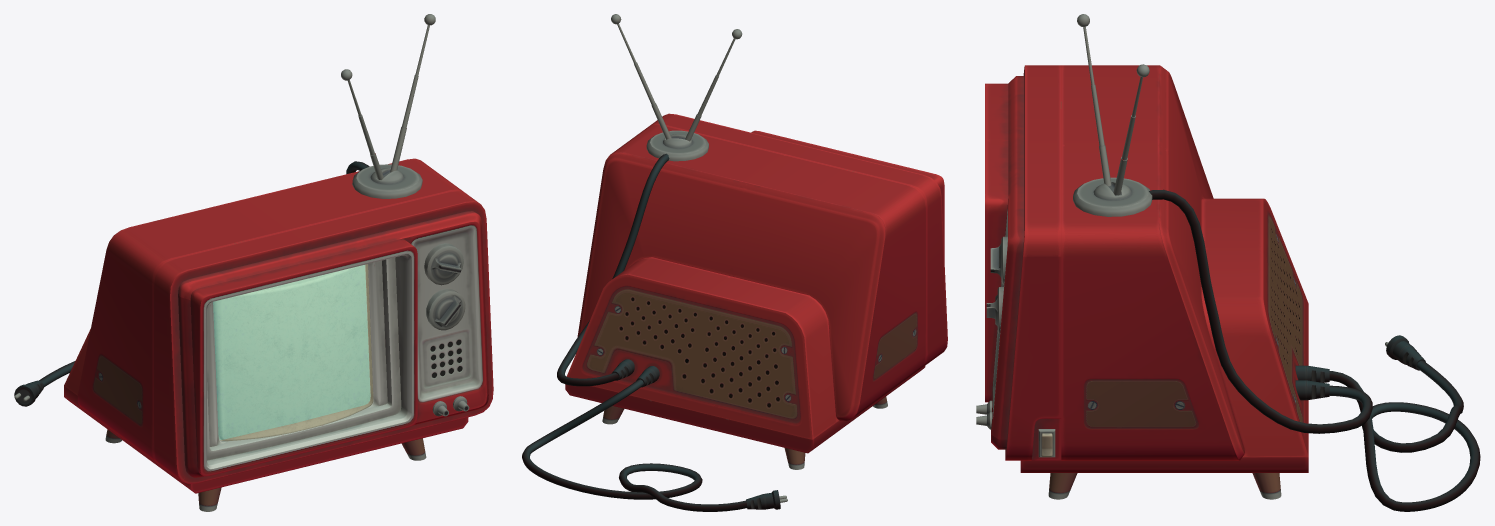
Rendered from cartoon_tv.glb.
The picture shows the model from 3 angles, left to right: view 1: azimuth 30°, elevation 25°; view 2: azimuth 150°, elevation 25°; view 3: azimuth 270°, elevation 25°; orthographic projection. The views are drawn at different scales.
Visible parts, largest first — view 1: front_body_low001_main_0, middel_body_low001_main_0, screen_low001_glass_0, screen_emision_low002, rear_body_low001_main_0, antena_base_low001_main_0, top_regulator_low002, top_regulator_low001_main_0, antena_middel_low002_main_0, antena_middel_low003_main_0; view 2: middel_body_low001_main_0, rear_body_low001_main_0, front_body_low001_main_0, wire_right_low001_main_0, wire_left_low001_main_0, antena_base_low001_main_0, antena_middel_low002_main_0, antena_middel_low003_main_0; view 3: middel_body_low001_main_0, front_body_low001_main_0, rear_body_low001_main_0, wire_right_low001_main_0, wire_left_low001_main_0, antena_base_low001_main_0, antena_middel_low003_main_0, antena_middel_low002_main_0, legs_low001_main_0, legs_low004, wire_holder_low002, top_regulator_low001_main_0.
Part boxes in pixels (x1=…): front_body_low001_main_0: x1=153, y1=190, x2=493, y2=483; middel_body_low001_main_0: x1=77, y1=158, x2=463, y2=463; screen_low001_glass_0: x1=213, y1=264, x2=373, y2=441; screen_emision_low002: x1=213, y1=265, x2=370, y2=439; rear_body_low001_main_0: x1=64, y1=328, x2=468, y2=493; antena_base_low001_main_0: x1=352, y1=164, x2=422, y2=198; top_regulator_low002: x1=426, y1=288, x2=465, y2=330; top_regulator_low001_main_0: x1=424, y1=243, x2=463, y2=285; antena_middel_low002_main_0: x1=390, y1=14, x2=435, y2=172; antena_middel_low003_main_0: x1=341, y1=69, x2=383, y2=179; middel_body_low001_main_0: x1=577, y1=124, x2=926, y2=420; rear_body_low001_main_0: x1=565, y1=257, x2=925, y2=453; front_body_low001_main_0: x1=650, y1=113, x2=947, y2=366; wire_right_low001_main_0: x1=522, y1=379, x2=747, y2=511; wire_left_low001_main_0: x1=557, y1=153, x2=669, y2=386; antena_base_low001_main_0: x1=646, y1=130, x2=708, y2=161; antena_middel_low002_main_0: x1=611, y1=14, x2=671, y2=139; antena_middel_low003_main_0: x1=685, y1=29, x2=742, y2=141; middel_body_low001_main_0: x1=1061, y1=65, x2=1244, y2=460; front_body_low001_main_0: x1=985, y1=65, x2=1061, y2=460; rear_body_low001_main_0: x1=1020, y1=198, x2=1308, y2=472; wire_right_low001_main_0: x1=1329, y1=360, x2=1480, y2=511; wire_left_low001_main_0: x1=1149, y1=189, x2=1372, y2=433; antena_base_low001_main_0: x1=1073, y1=177, x2=1152, y2=216; antena_middel_low003_main_0: x1=1077, y1=14, x2=1111, y2=186; antena_middel_low002_main_0: x1=1113, y1=64, x2=1149, y2=195; legs_low001_main_0: x1=1048, y1=473, x2=1077, y2=499; legs_low004: x1=1252, y1=473, x2=1281, y2=499; wire_holder_low002: x1=1295, y1=380, x2=1329, y2=400; top_regulator_low001_main_0: x1=990, y1=236, x2=1007, y2=284.
Size of the model in its own units: 81.52 by 98.78 by 98.48.
Materials: 2 (2 with a texture image).
